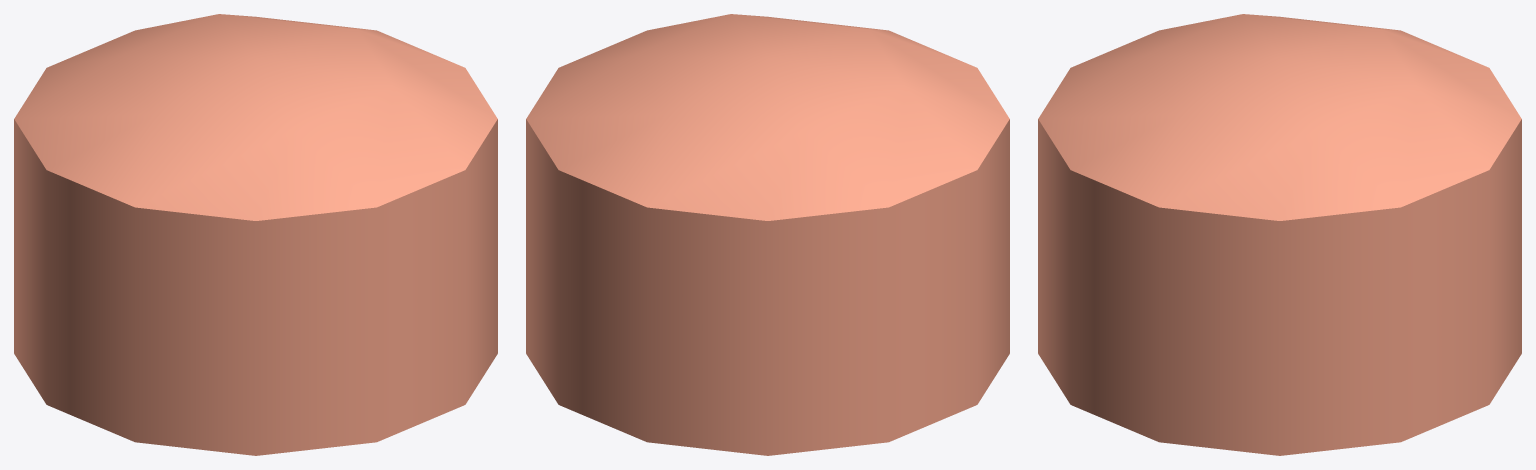
The model's file is ottoman_012.glb.
3 views of the same model, side by side, from view 1: azimuth 30°, elevation 25°; view 2: azimuth 150°, elevation 25°; view 3: azimuth 270°, elevation 25° (orthographic).
Visible parts, largest first — view 1: ottoman_012; view 2: ottoman_012; view 3: ottoman_012.
Part boxes in pixels (x1=…): ottoman_012: x1=14, y1=14, x2=497, y2=455; ottoman_012: x1=526, y1=14, x2=1009, y2=455; ottoman_012: x1=1038, y1=14, x2=1521, y2=455.
Size of the model in its own units: 0.6331 by 0.4275 by 0.6331.
Materials: 1 (1 with a texture image).
